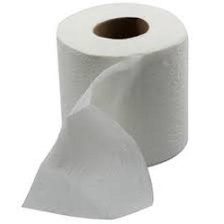tissue: (14, 0, 196, 224)
